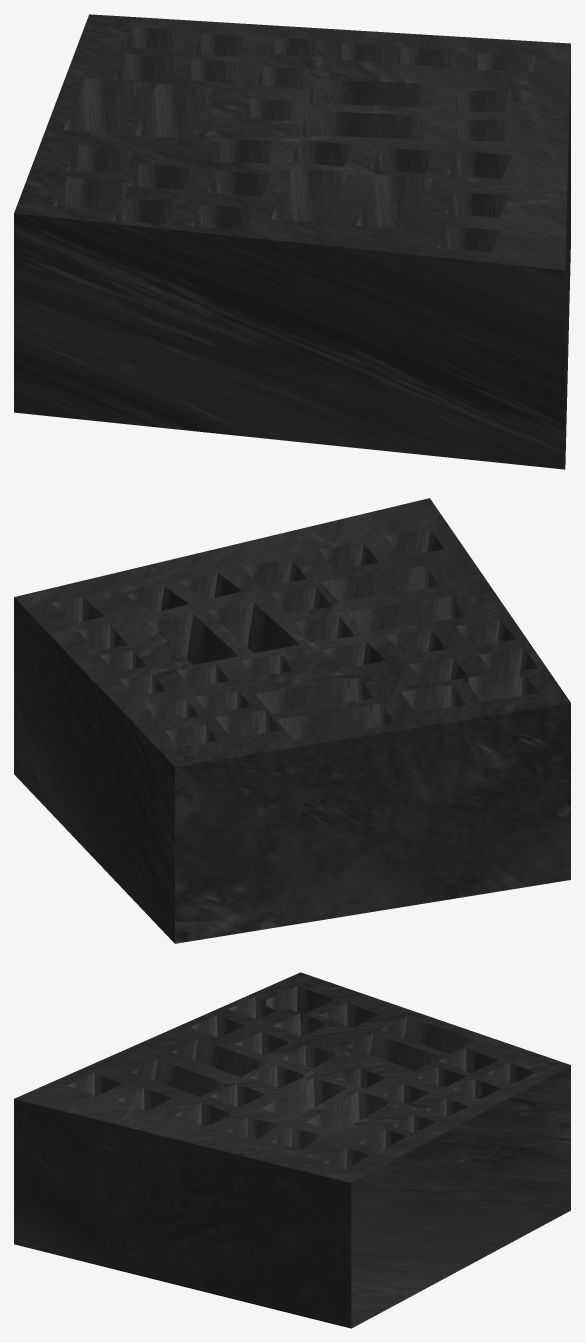
The model's file is noir11.FBX.
The picture shows the model from 3 angles, top to bottom: view 1: azimuth 30°, elevation 25°; view 2: azimuth 150°, elevation 25°; view 3: azimuth 270°, elevation 25°; orthographic projection. The views are drawn at different scales.
Visible parts, largest first — view 1: Ligne001; view 2: Ligne001; view 3: Ligne001.
Boxes of the visible parts, x1,y1,x2,y2 form: Ligne001: (14,14,570,469); Ligne001: (14,498,570,943); Ligne001: (14,972,570,1328).
Size of the model in its own units: 27.65 by 8.89 by 30.87.
1 material, 1 textured.
